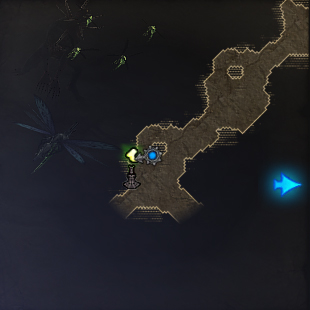SpeedPylon: (124, 147, 140, 189)
